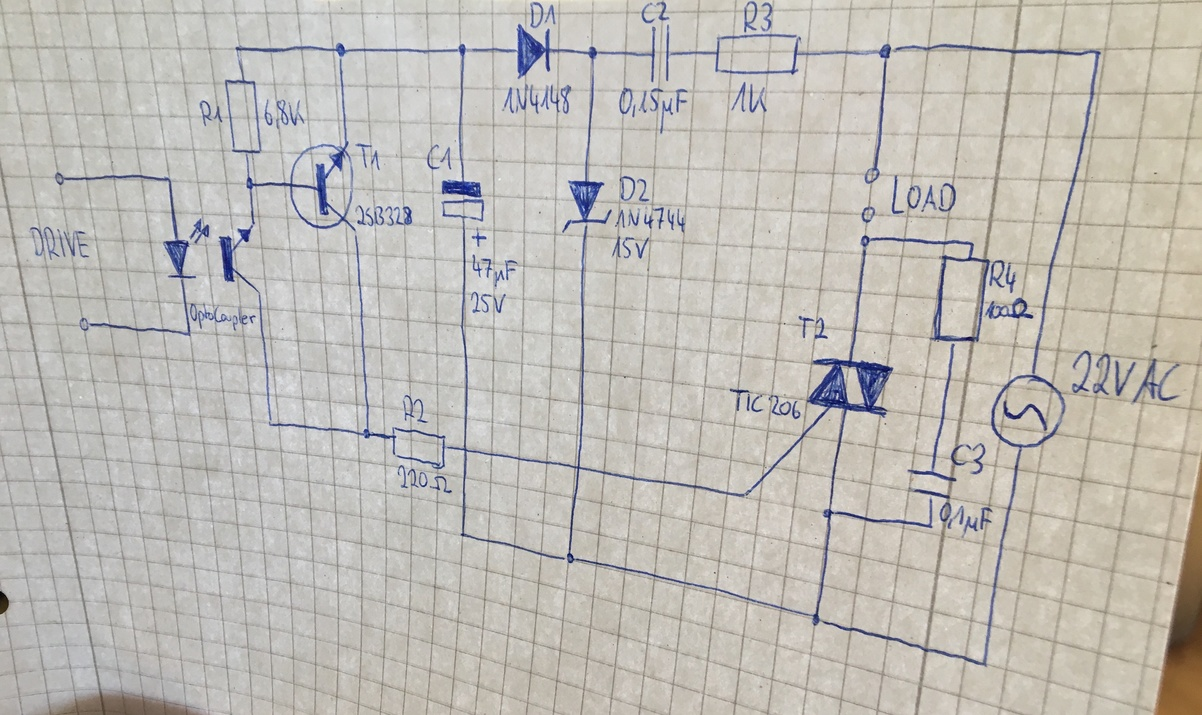capacitor.polarized: (439, 177, 490, 249)
capacitor.unpolarized: (905, 465, 957, 502), (648, 23, 675, 85)
crossover: (573, 462, 585, 474), (460, 444, 471, 456)
diode: (559, 178, 613, 235), (515, 22, 553, 81)
junction: (876, 42, 898, 63), (807, 611, 827, 629), (822, 501, 838, 522), (333, 41, 350, 60), (560, 549, 579, 565), (585, 45, 602, 62), (859, 232, 874, 251), (455, 42, 471, 58), (243, 174, 256, 191), (978, 656, 992, 671), (1091, 46, 1105, 58), (739, 489, 753, 501), (163, 173, 175, 186), (361, 427, 372, 441), (966, 238, 978, 250), (265, 417, 275, 429), (183, 328, 195, 338), (234, 44, 244, 56), (925, 521, 936, 531), (458, 529, 468, 540)
optocoupler: (161, 217, 263, 296)
resistor: (928, 253, 991, 348), (713, 32, 804, 79), (222, 77, 264, 158), (390, 424, 448, 471)
terminal: (859, 206, 876, 239), (862, 165, 883, 186), (52, 169, 70, 187), (78, 316, 93, 333)
text: (1068, 348, 1184, 407), (616, 86, 689, 136), (889, 172, 958, 218), (727, 386, 802, 421), (500, 82, 575, 117), (27, 224, 91, 262), (938, 500, 994, 540), (613, 206, 688, 234), (188, 302, 257, 332), (396, 463, 454, 496), (470, 252, 519, 290), (261, 97, 307, 132), (354, 203, 415, 228), (948, 441, 989, 476), (729, 80, 770, 115), (983, 297, 1035, 321), (987, 258, 1019, 295), (609, 234, 651, 261), (742, 1, 775, 34), (469, 290, 509, 316), (617, 174, 651, 204), (400, 392, 430, 426), (353, 141, 384, 173), (796, 313, 829, 342), (528, 1, 559, 30), (425, 143, 455, 172), (198, 98, 225, 128), (639, 1, 674, 24)
transistor: (289, 141, 357, 237)
triac: (805, 356, 898, 425)
voltage.dc_ac: (988, 371, 1069, 450)
